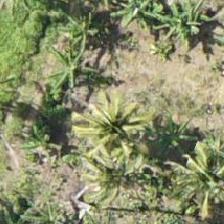coconut_tree: (66, 83, 156, 173), (163, 130, 223, 220)
